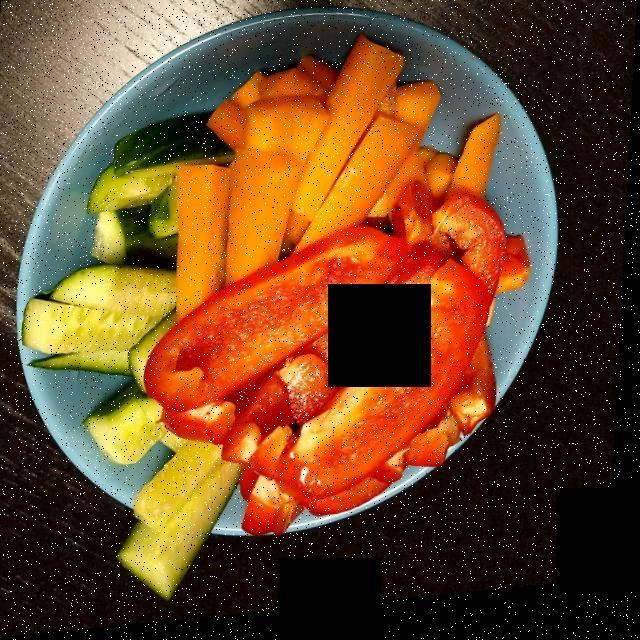bell-pepper: (160, 189, 539, 535)
carrot: (174, 41, 492, 317)
cucumber: (20, 123, 252, 601)
